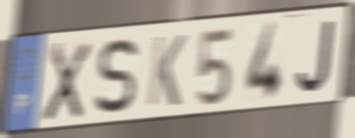4: (243, 18, 284, 104)
5: (193, 25, 238, 108)
J: (294, 17, 336, 95)
K: (145, 32, 189, 109)
S: (92, 35, 141, 117)
X: (40, 40, 94, 125)
